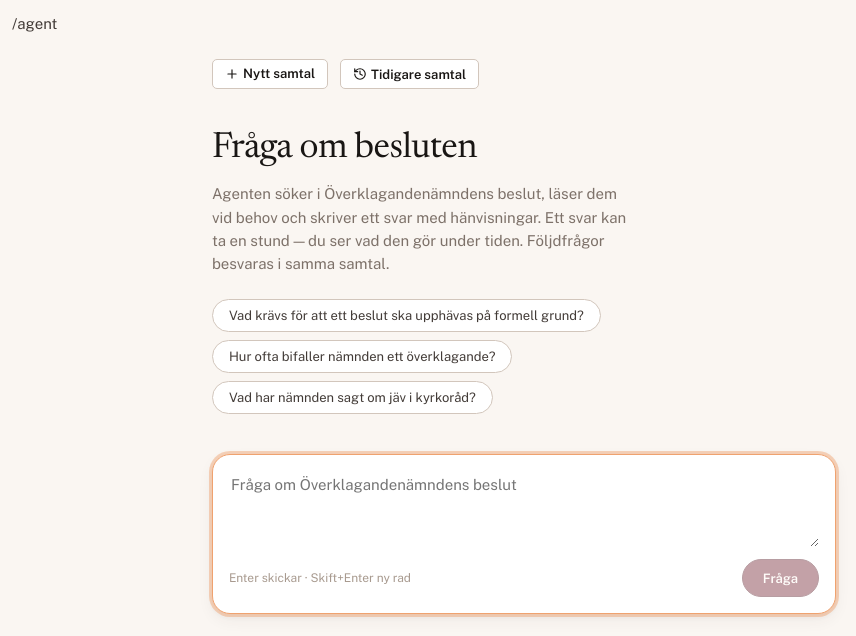
Test: a new conversation › the answer is not re-fetched as a transcript when the URL catches up
The width and height of the screenshot is (856, 636).
Step 1. Type "Vad gäller vid jäv?" into the text box → (524, 509), box [229, 471, 819, 547]
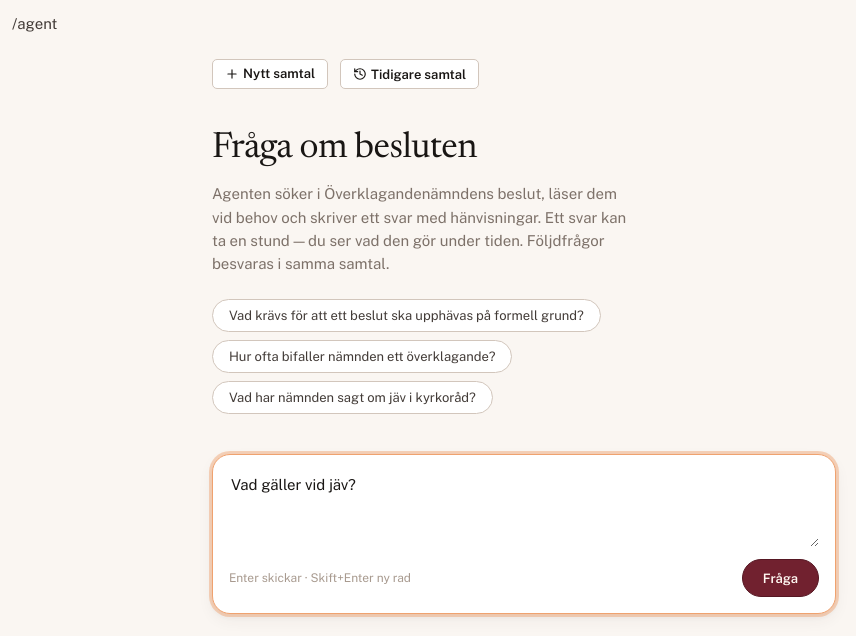
Step 2. Press Enter in the text box, box [229, 471, 819, 547]
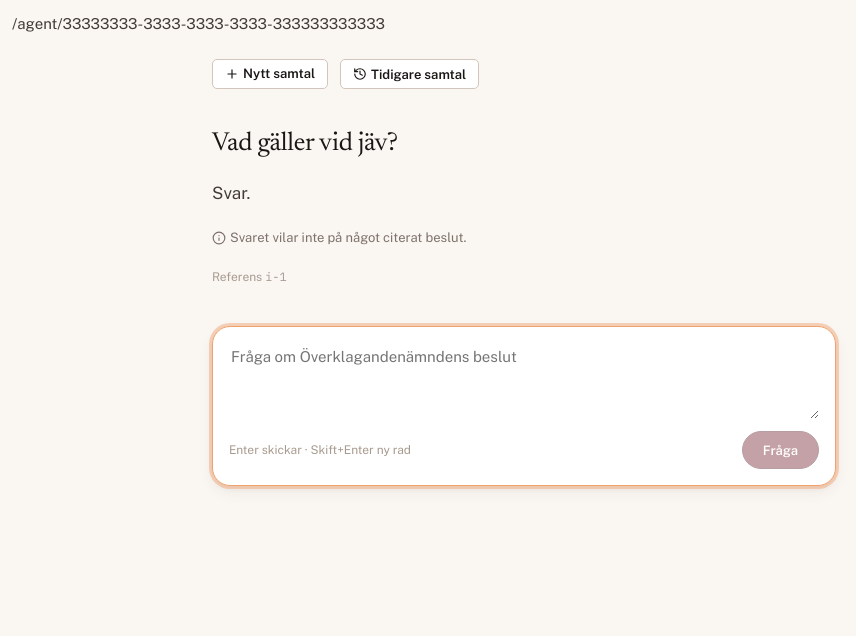
Expected: the text "Svar." is shown once, [212, 183, 250, 203]
